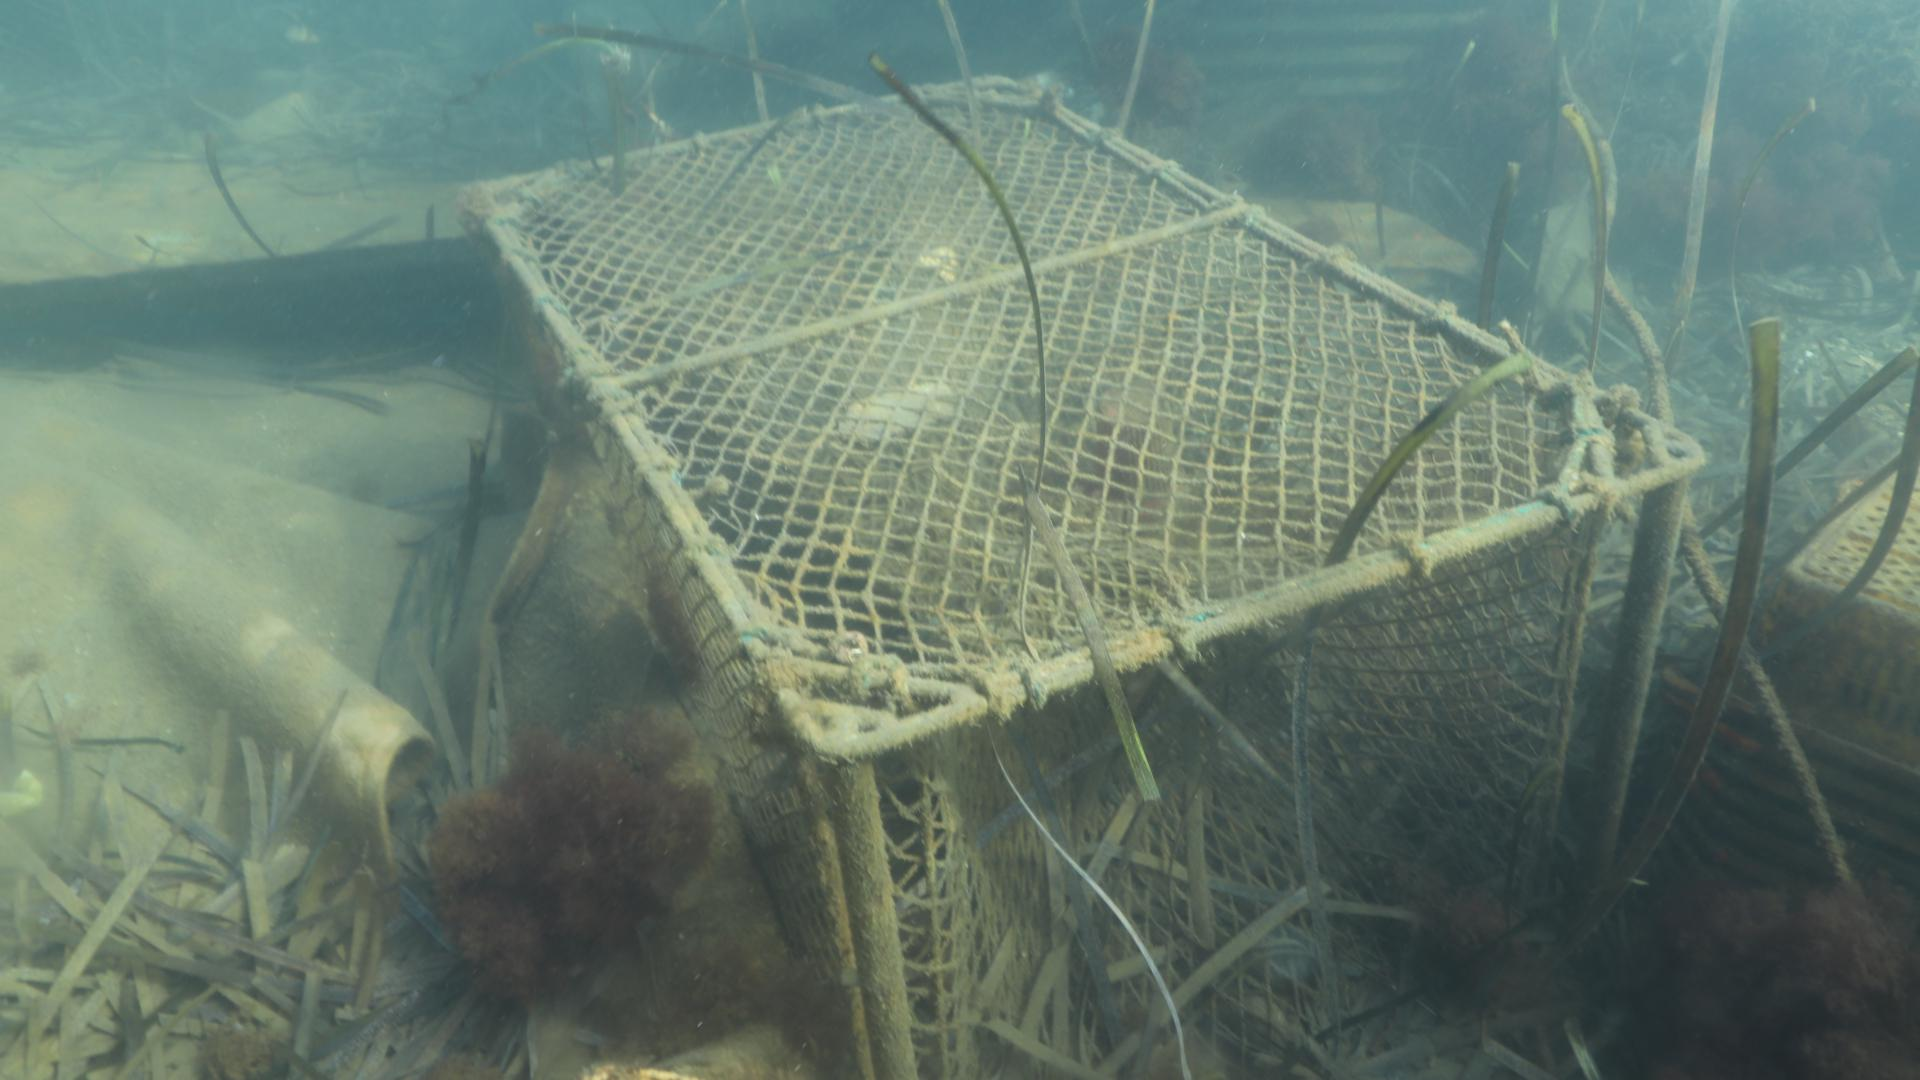rectangular fish trap: (450, 70, 1706, 1080)
rope: (1544, 0, 1854, 895)
